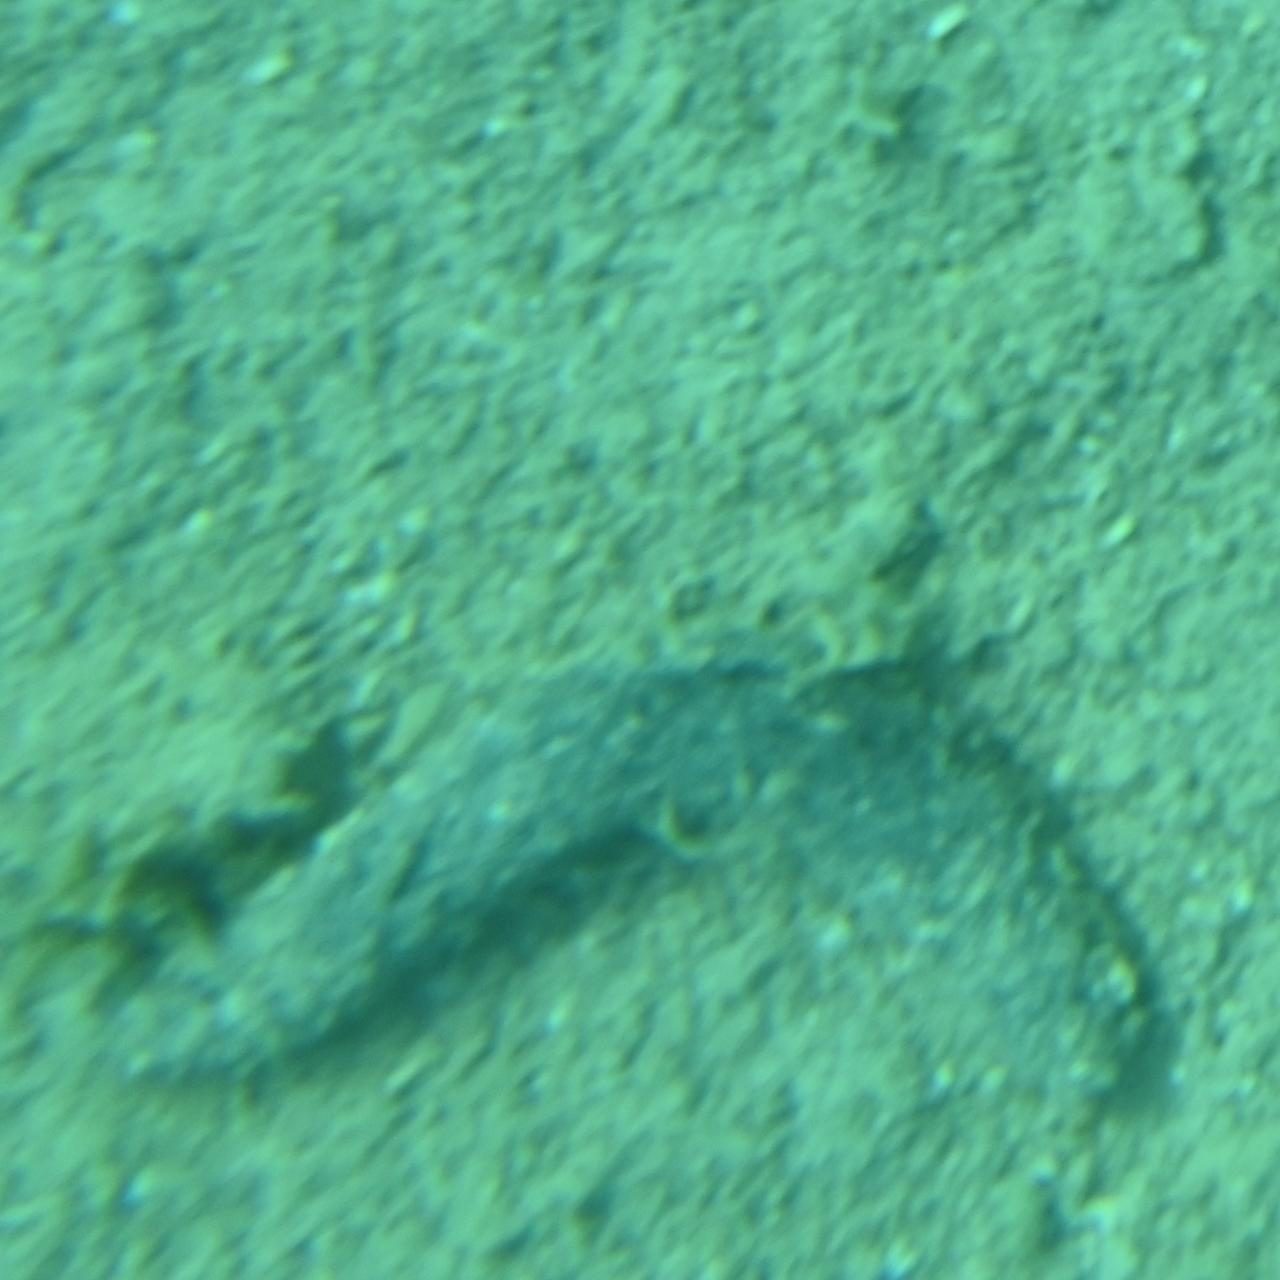Holothuria tubulosa: (92, 646, 1188, 1152)
